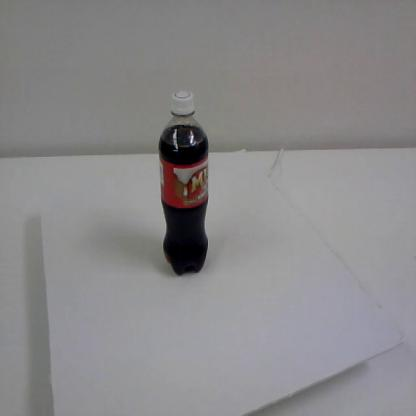bottle: (156, 88, 210, 276)
